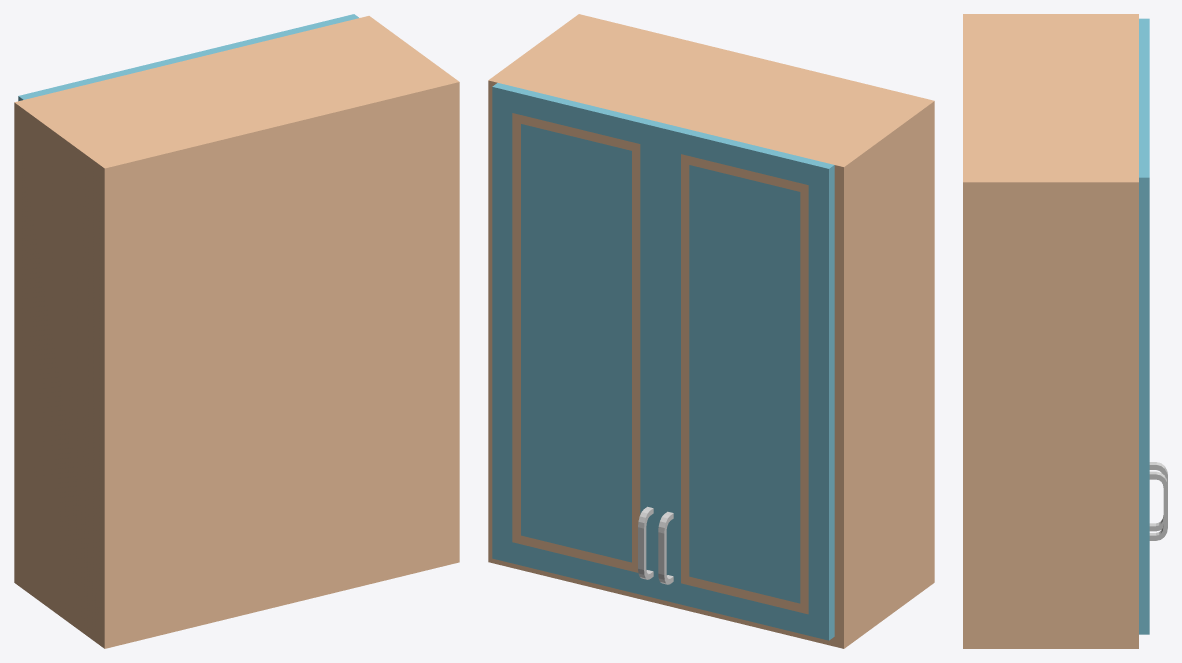
Rendered from Cabinet Upper Unit 1.fbx.
3 views of the same model, side by side, from view 1: azimuth 30°, elevation 25°; view 2: azimuth 150°, elevation 25°; view 3: azimuth 270°, elevation 25° (orthographic). The views are drawn at different scales.
Visible parts, largest first — view 1: Cabinet Upper Unit 1, Cabinet Upper Unit Door.L..002, Cabinet Upper Unit Door.L..003; view 2: Cabinet Upper Unit 1, Cabinet Upper Unit Door.L..002, Cabinet Upper Unit Door.L..003; view 3: Cabinet Upper Unit 1, Cabinet Upper Unit Door.L..003, Cabinet Upper Unit Door.L..002.
Part boxes in pixels (box(x1,y1,x2,y2)): Cabinet Upper Unit 1: box(14, 16, 459, 648); Cabinet Upper Unit Door.L..002: box(18, 55, 191, 101); Cabinet Upper Unit Door.L..003: box(187, 14, 358, 58); Cabinet Upper Unit 1: box(488, 14, 934, 648); Cabinet Upper Unit Door.L..002: box(658, 124, 834, 640); Cabinet Upper Unit Door.L..003: box(492, 83, 665, 599); Cabinet Upper Unit 1: box(963, 14, 1138, 648); Cabinet Upper Unit Door.L..003: box(1139, 98, 1167, 634); Cabinet Upper Unit Door.L..002: box(1139, 18, 1167, 531).
Size of the model in its own units: 0.8052 by 1.04 by 0.4144.
